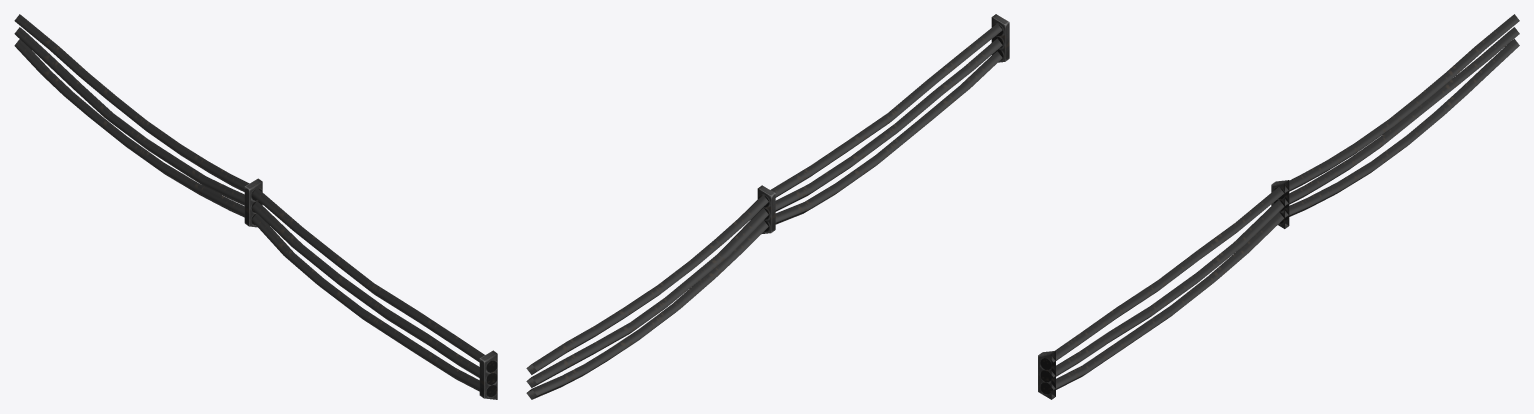
File: cableWall01_6m.FBX
3 views of the same model, side by side, from view 1: azimuth 30°, elevation 25°; view 2: azimuth 150°, elevation 25°; view 3: azimuth 330°, elevation 25° (orthographic).
Parts seen in each view (by area): view 1: cableWall01_6m; view 2: cableWall01_6m; view 3: cableWall01_6m.
Boxes of the visible parts, left/top/right/bottom form: cableWall01_6m: left=14, top=14, right=497, bottom=399; cableWall01_6m: left=526, top=14, right=1009, bottom=399; cableWall01_6m: left=1038, top=14, right=1519, bottom=399.
Bounding box in the file's own units: 11.51 × 41.7 × 603.
